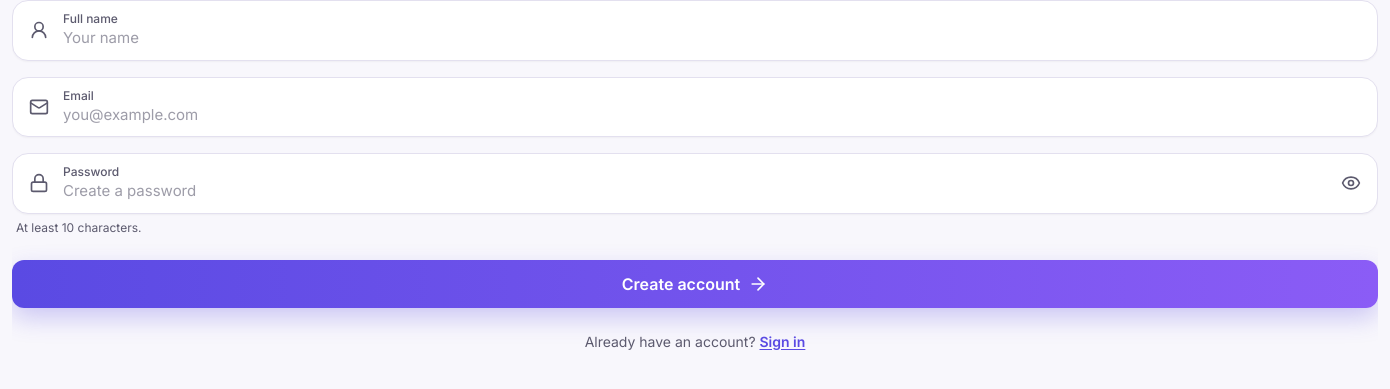
Scenario: RegisterForm › shows an email error when the address is already registered
Type "Ada Lovelace" into the field labelled "Full name" at (712, 38), box [63,27,1361,50]
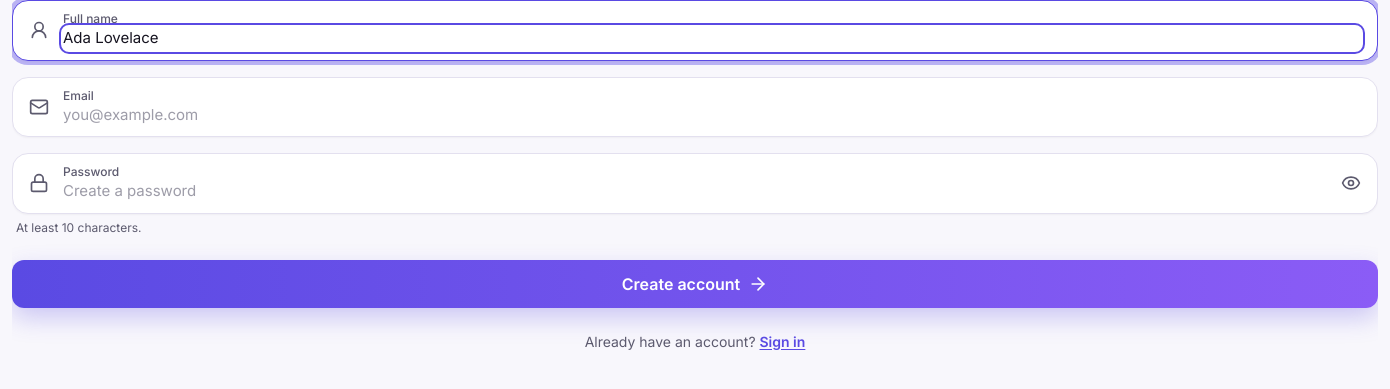
Type "taken@calc.dev" into the field labelled "Email" at (712, 115), box [63,104,1361,126]
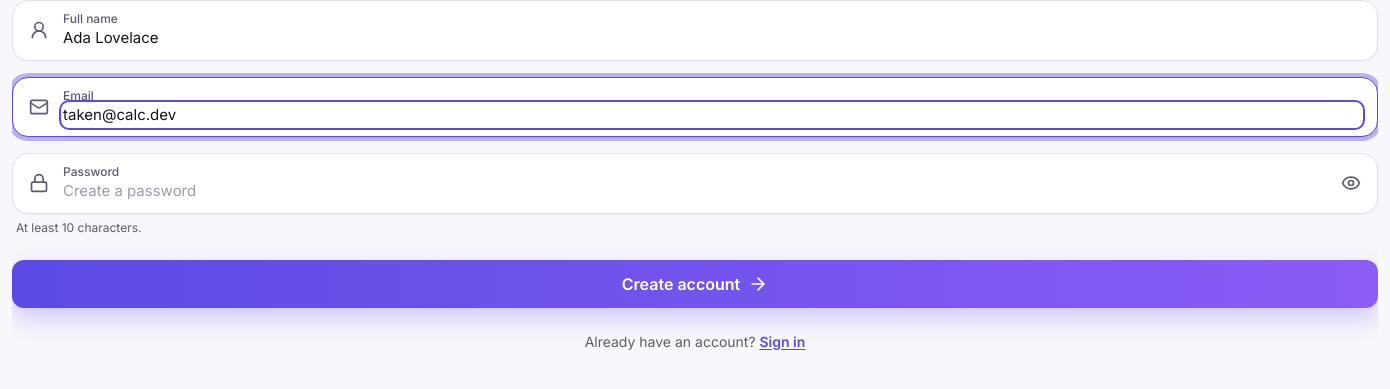
Type "correct-passphrase" into the password field labelled "Password" at (692, 191), box [63,180,1321,202]
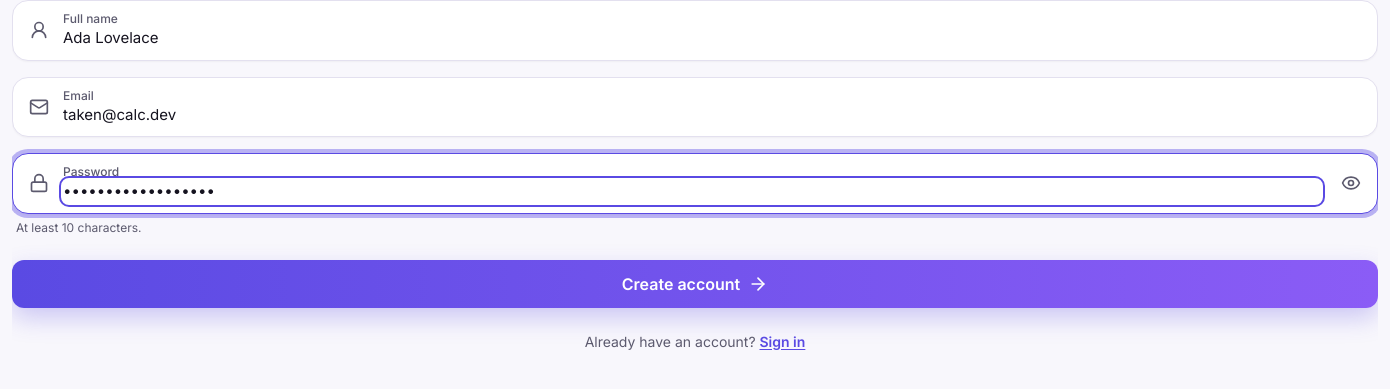
Click the button "Create account" at (695, 284), box [12,260,1378,308]
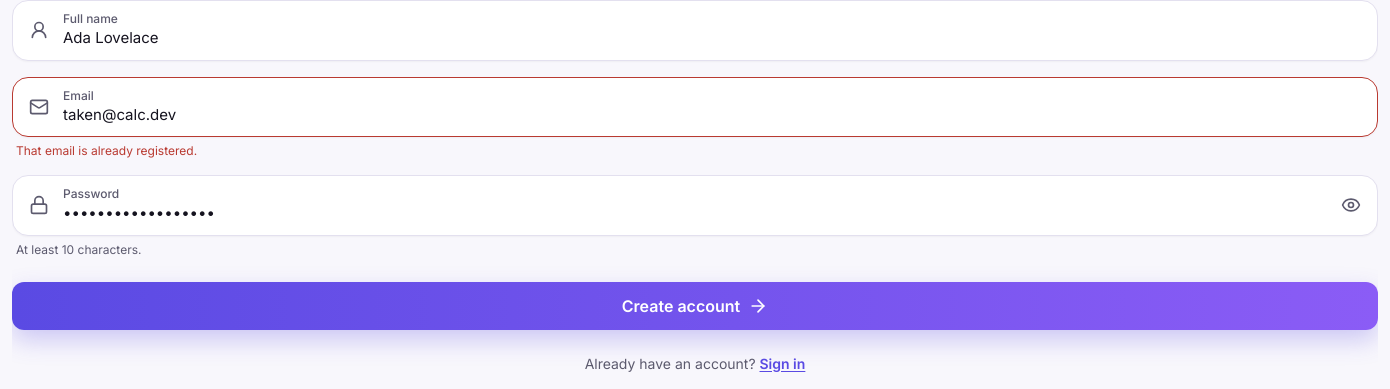
Check: the text "That email is already registered." is shown, box [16,143,197,158]
